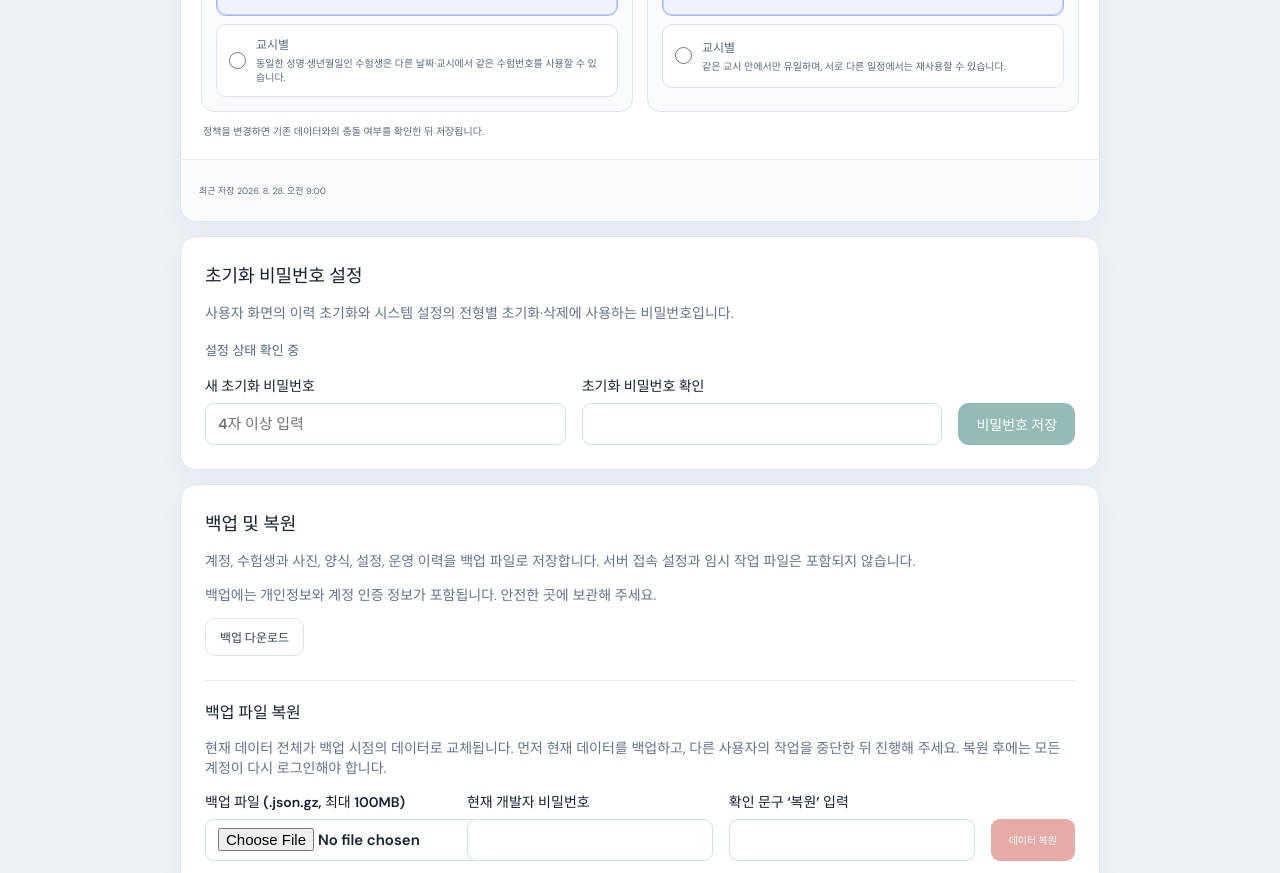
Test case: saves a separate history reset password after matching confirmation
The image size is (1280, 873).
(page scrolled)
Expected: the heading "초기화 비밀번호 설정" is shown, [205, 264, 362, 288]
Step 1. Type "new-secret" into the password field labelled "새 초기화 비밀번호" → [385, 424], box [205, 403, 566, 445]
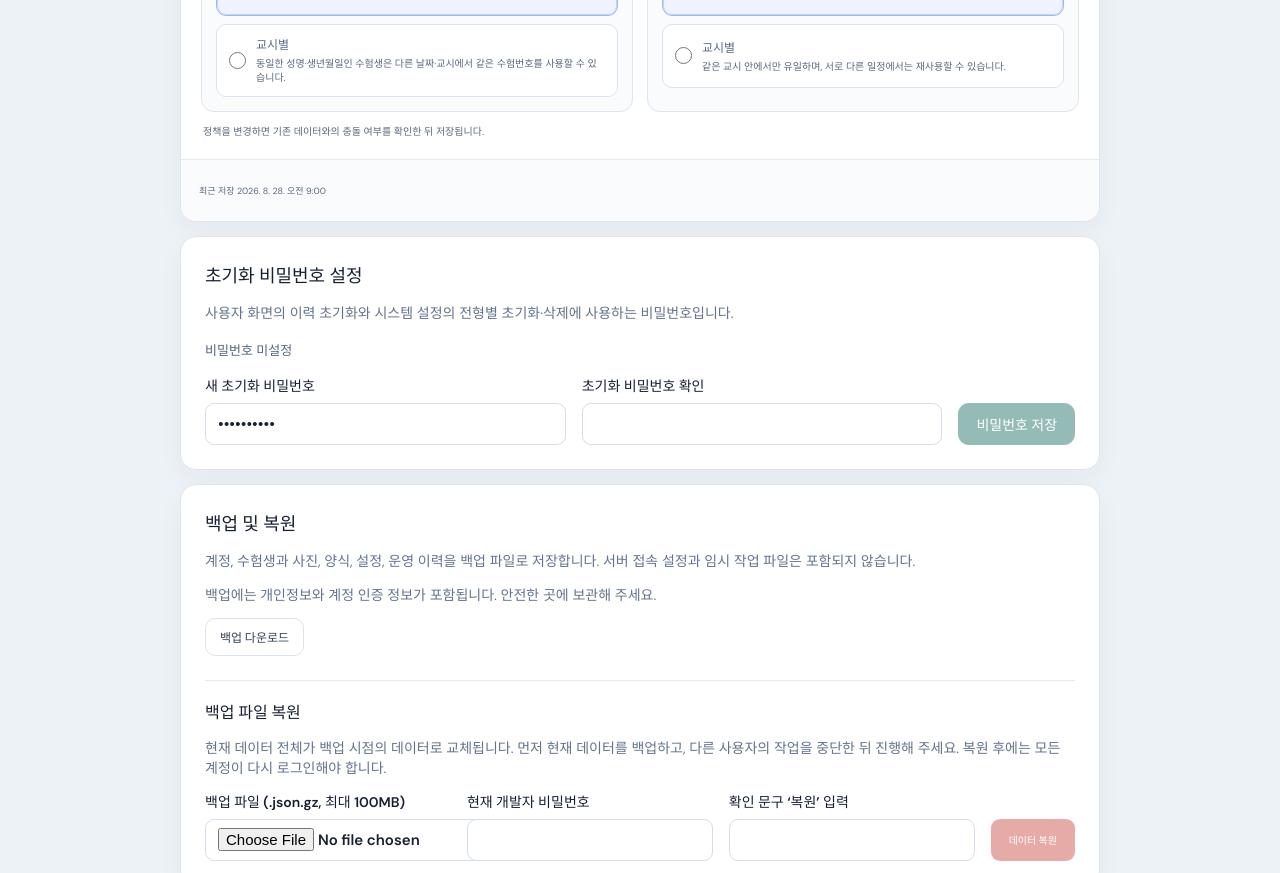
Step 2. Type "mismatch" into the password field labelled "초기화 비밀번호 확인" → [762, 424], box [582, 403, 942, 445]
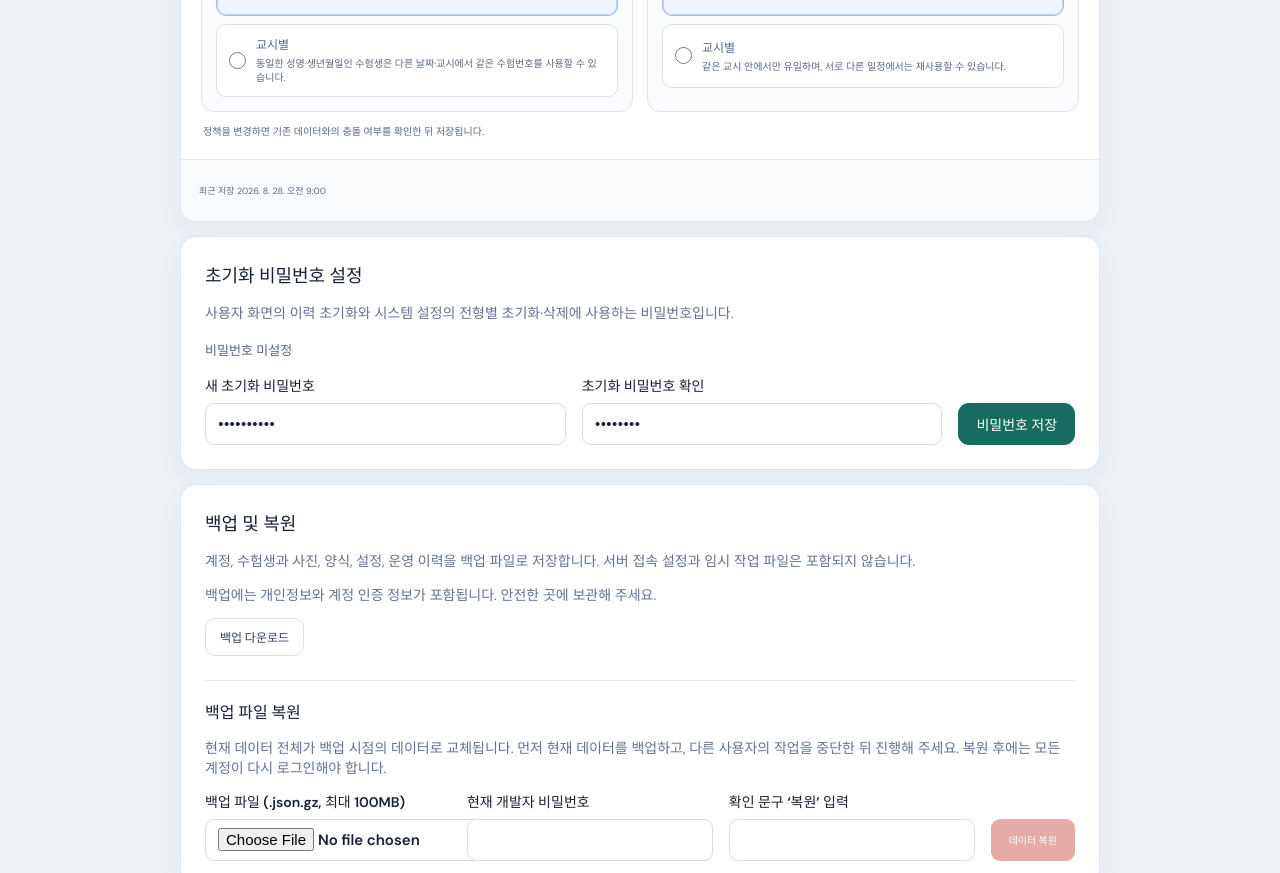
Step 3. Click the button "비밀번호 저장" → [1017, 424], box [958, 403, 1075, 445]
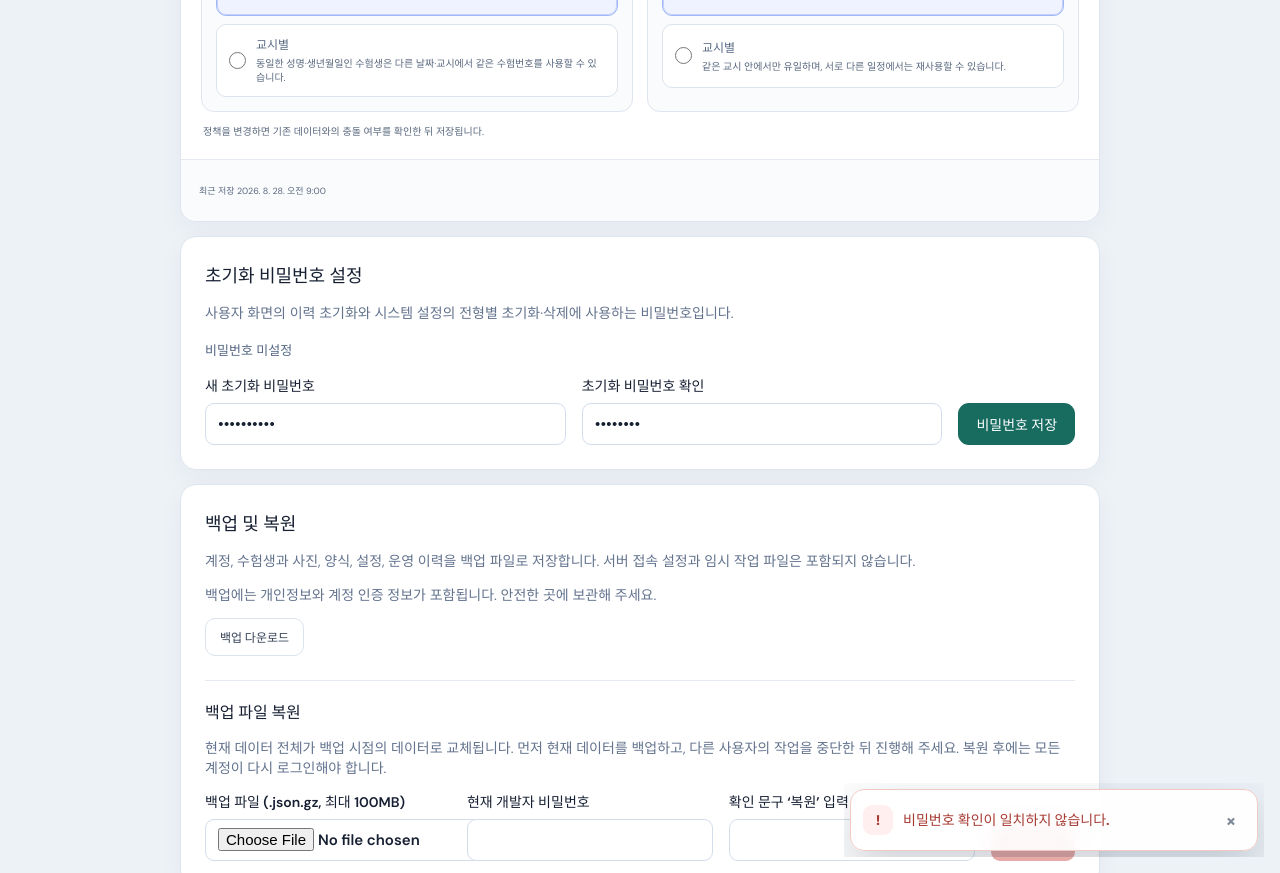
Expected: the message shows "일치하지", [903, 810, 1110, 828]
Step 4. Type "new-secret" into the password field labelled "초기화 비밀번호 확인" → [762, 424], box [582, 403, 942, 445]
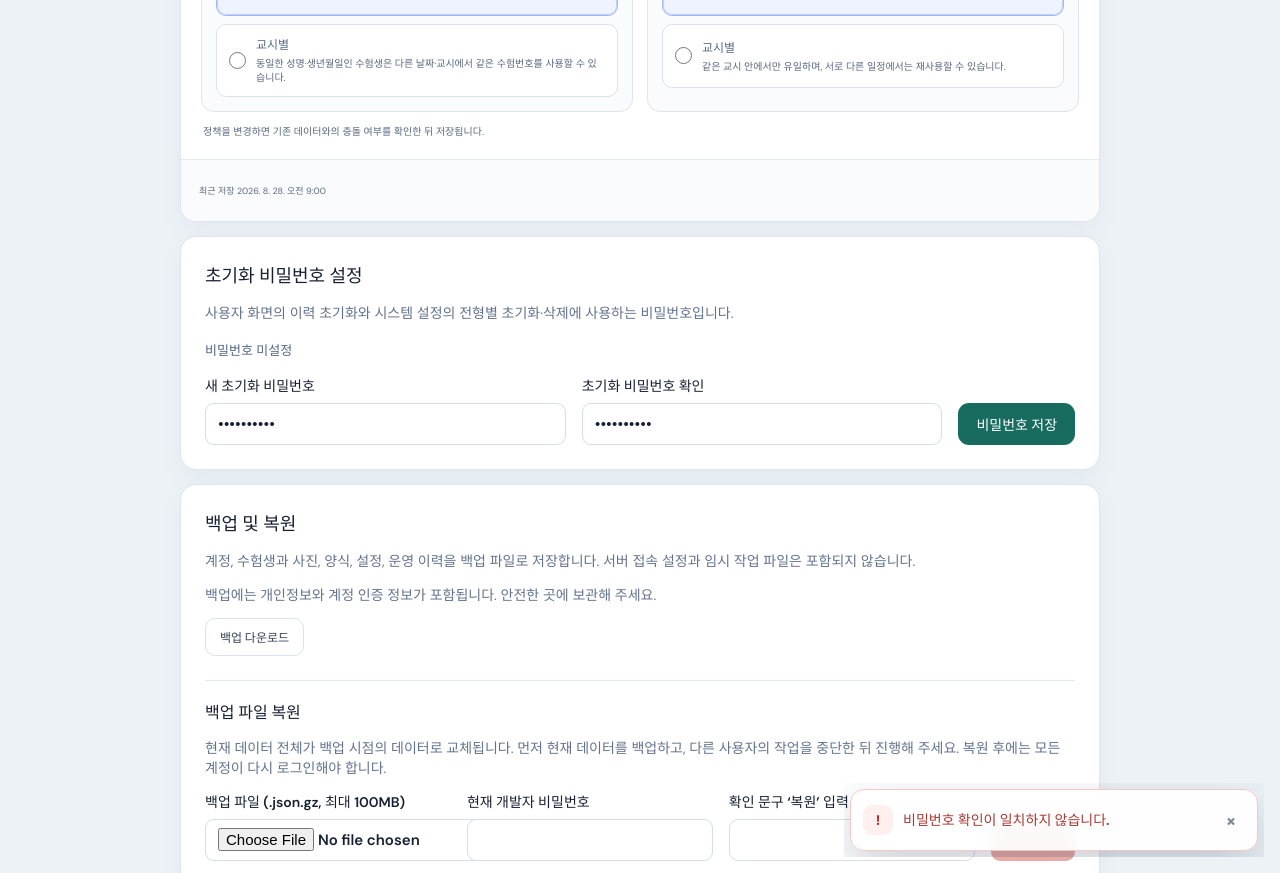
Step 5. Click the button "비밀번호 저장" → [1017, 424], box [958, 403, 1075, 445]
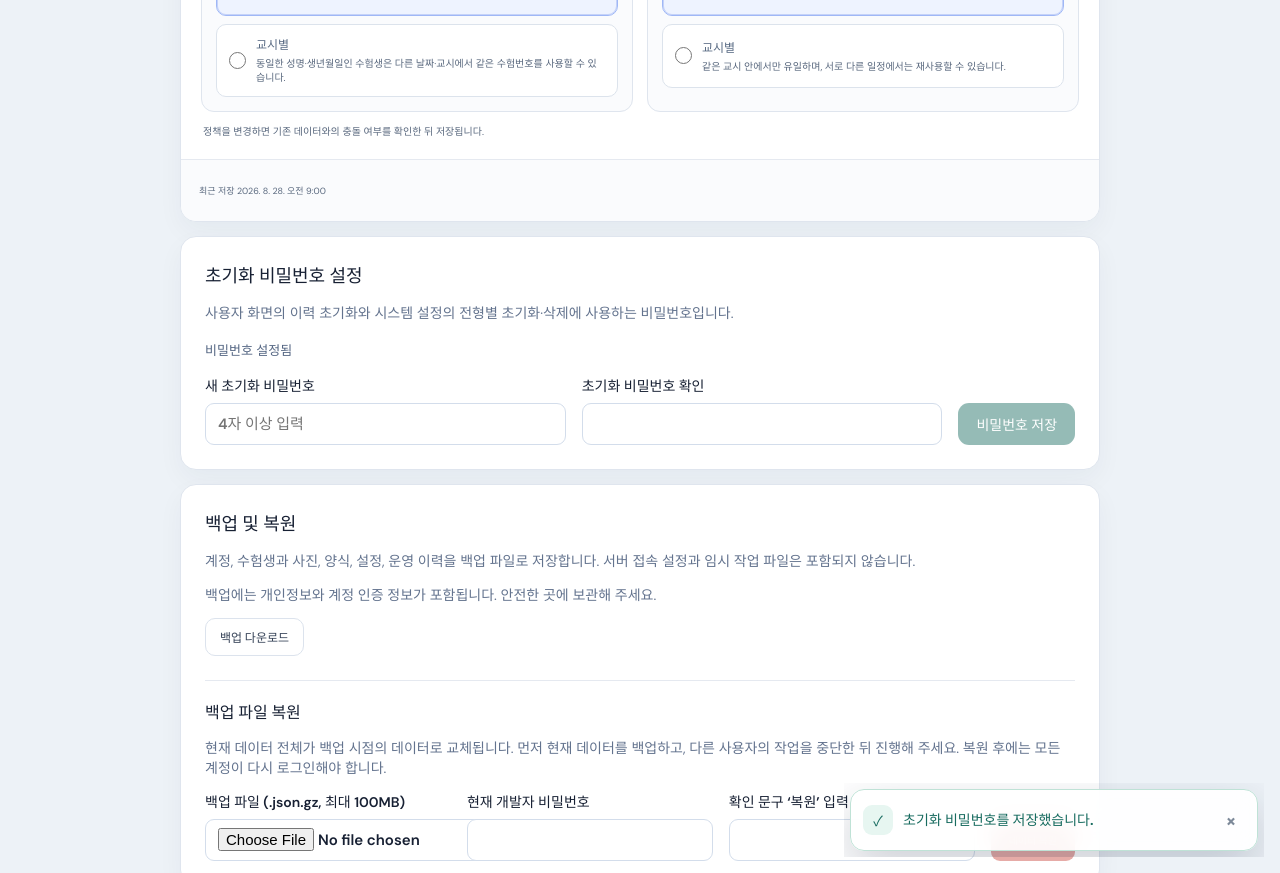
Expected: the text "초기화 비밀번호를 저장했습니다." is shown, [903, 810, 1093, 828]
Expected: the password field labelled "새 초기화 비밀번호" is empty, [205, 403, 566, 445]
Expected: the password field labelled "초기화 비밀번호 확인" is empty, [582, 403, 942, 445]
